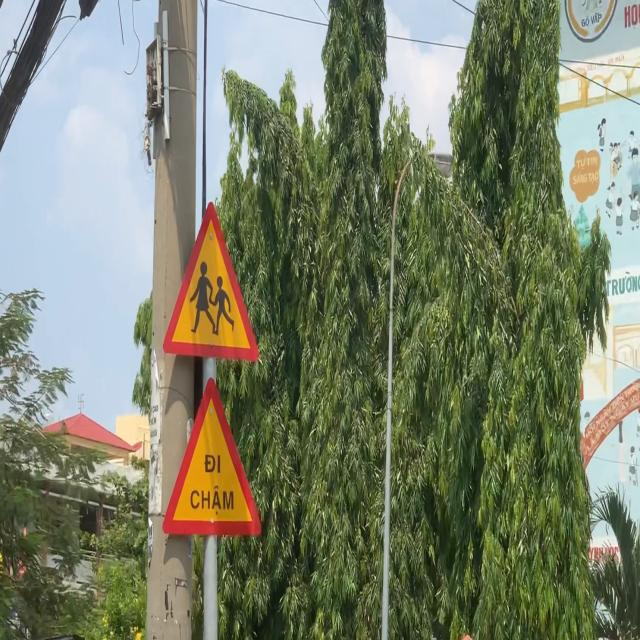Nguy hiem: (158, 196, 262, 371), (160, 373, 264, 543)
